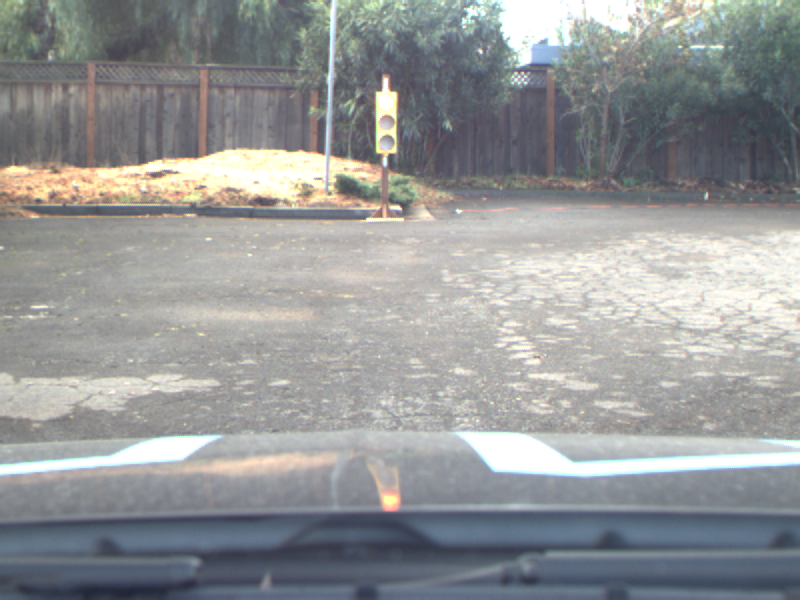Red: (373, 90, 399, 154)
